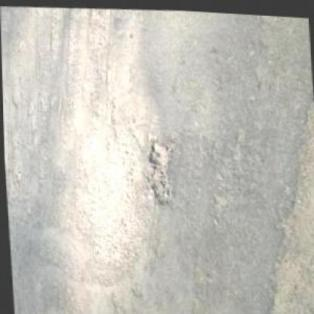Hueco: (251, 76, 313, 313), (145, 134, 175, 203)
